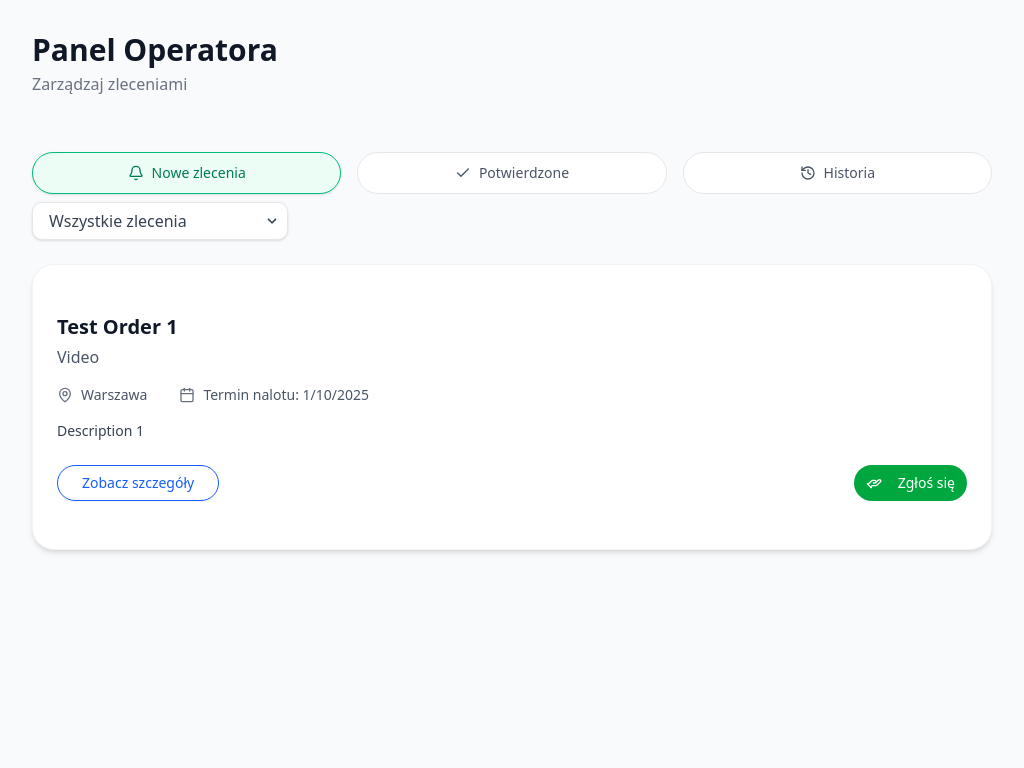
Test case: OperatorDashboard › shows order details when "See Details" is clicked
Check: the heading "Test Order 1" is shown, box 57,313 -> 178,341
Click the button "Zobacz szczegóły" at [138, 483], box 57,465 -> 219,501
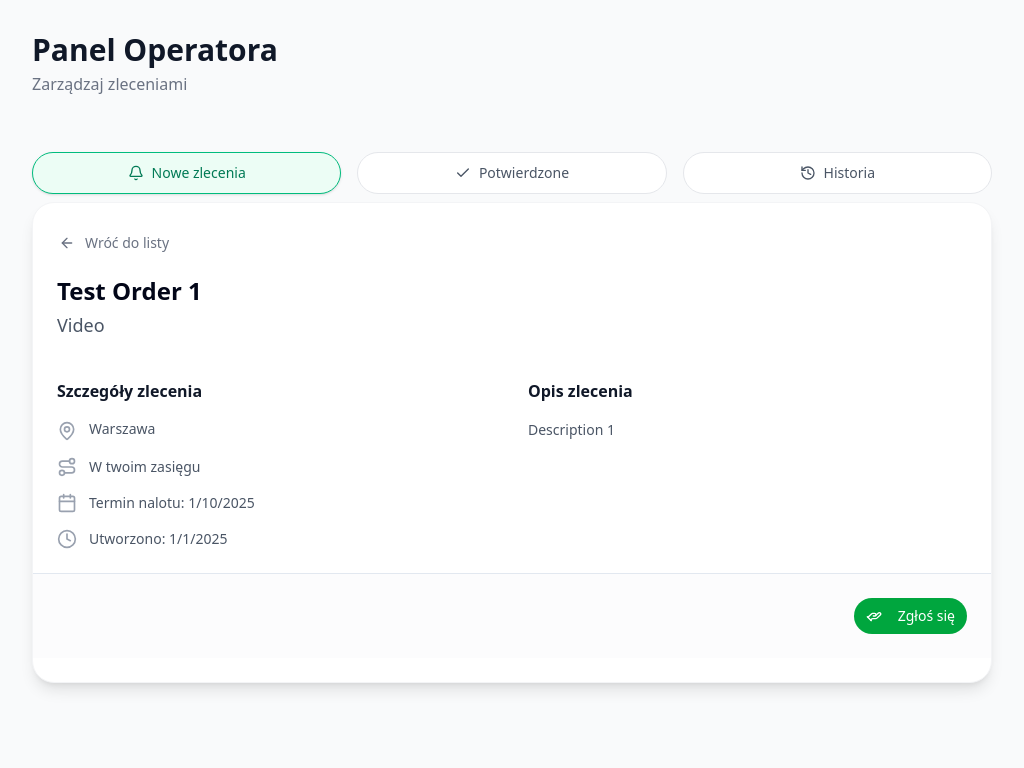
Check: the text "Description 1" is shown, box 528,420 -> 615,439
Check: the heading "Szczegóły zlecenia" is shown, box 57,380 -> 202,402
// Click Back
Click the button "Wróć do listy" at [114, 243], box 49,227 -> 179,259
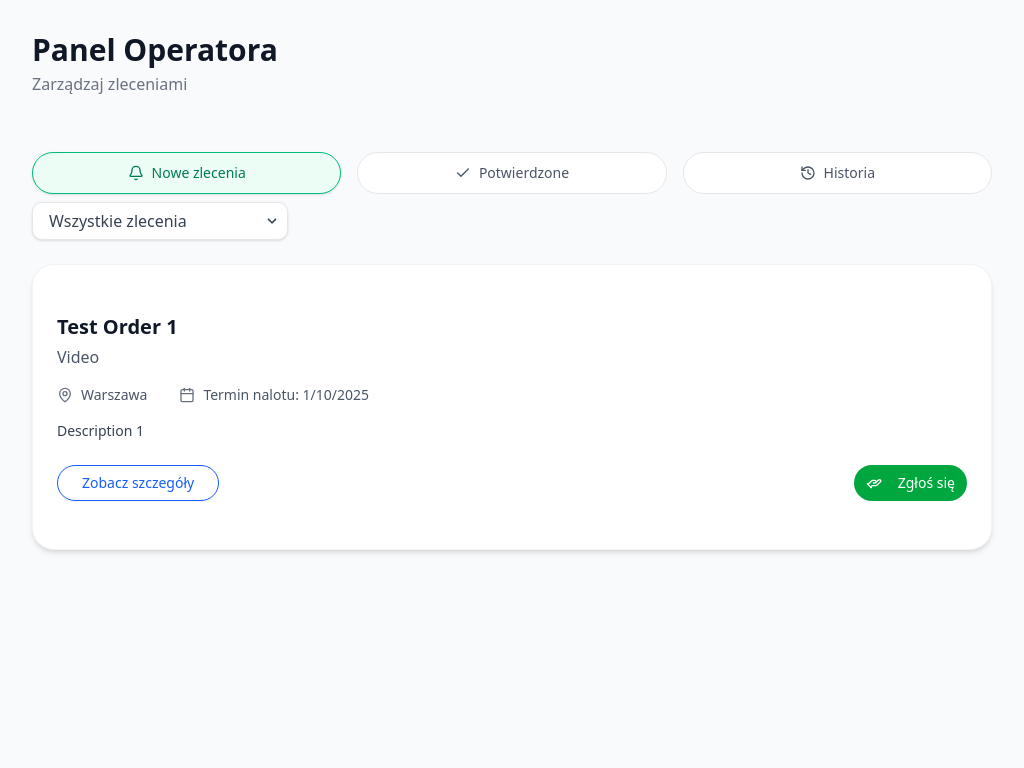
Check: the heading "Test Order 1" is shown, box 57,313 -> 178,341
Check: the heading "Szczegóły zlecenia" is gone
